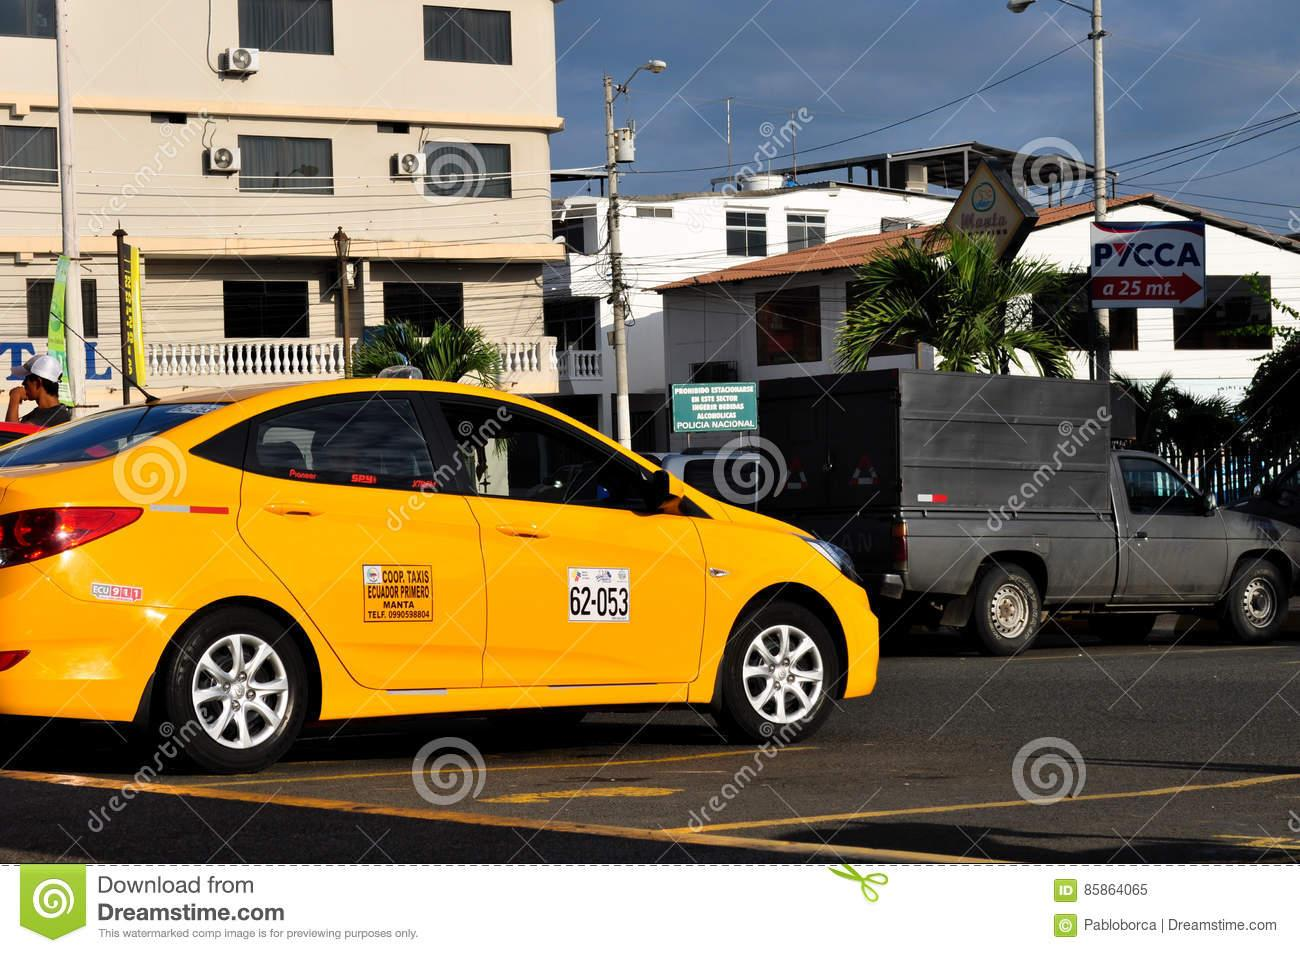taxi: (6, 343, 908, 764)
